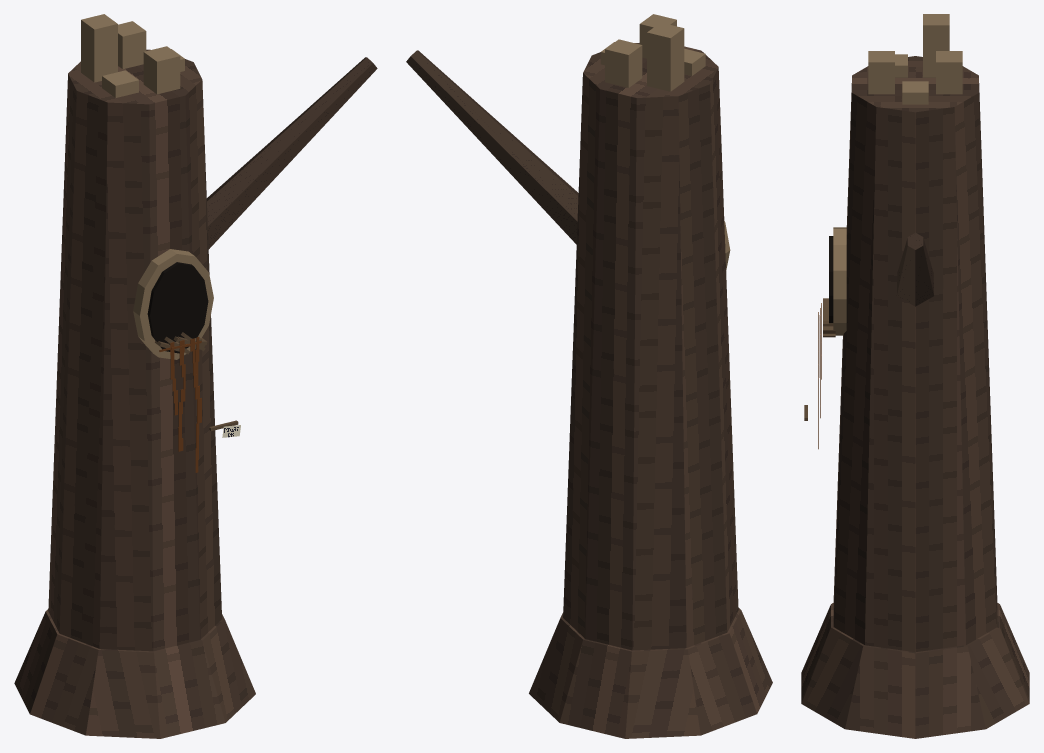
The model's file is boobook_hollow.glb.
3 views of the same model, side by side, from view 1: azimuth 30°, elevation 25°; view 2: azimuth 150°, elevation 25°; view 3: azimuth 270°, elevation 25° (orthographic). The views are drawn at different scales.
Visible parts, largest first — view 1: BoobookHollow; view 2: BoobookHollow; view 3: BoobookHollow.
Part boxes in pixels (left/top/right/bottom): BoobookHollow: left=14, top=14, right=377, bottom=738; BoobookHollow: left=406, top=14, right=772, bottom=738; BoobookHollow: left=801, top=14, right=1029, bottom=738.
Size of the model in its own units: 0.8872 by 1.63 by 0.5136.
Materials: 6 (2 with a texture image).
